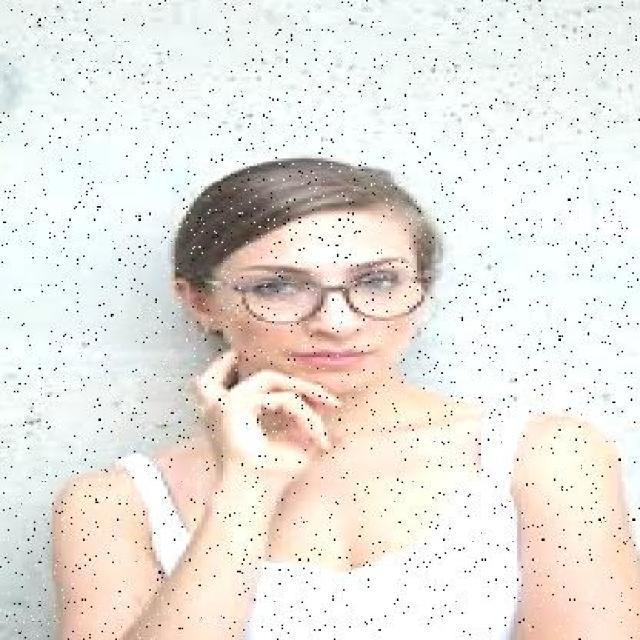glasses: (230, 254, 436, 334)
